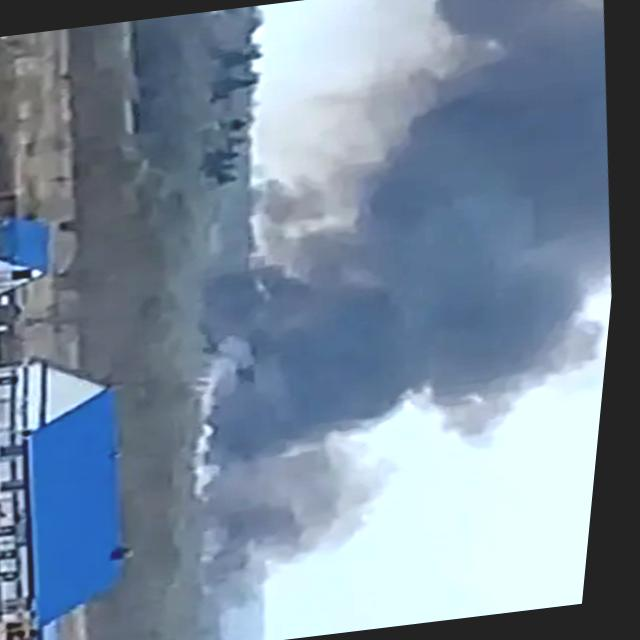no_helmet: (144, 0, 640, 609)
